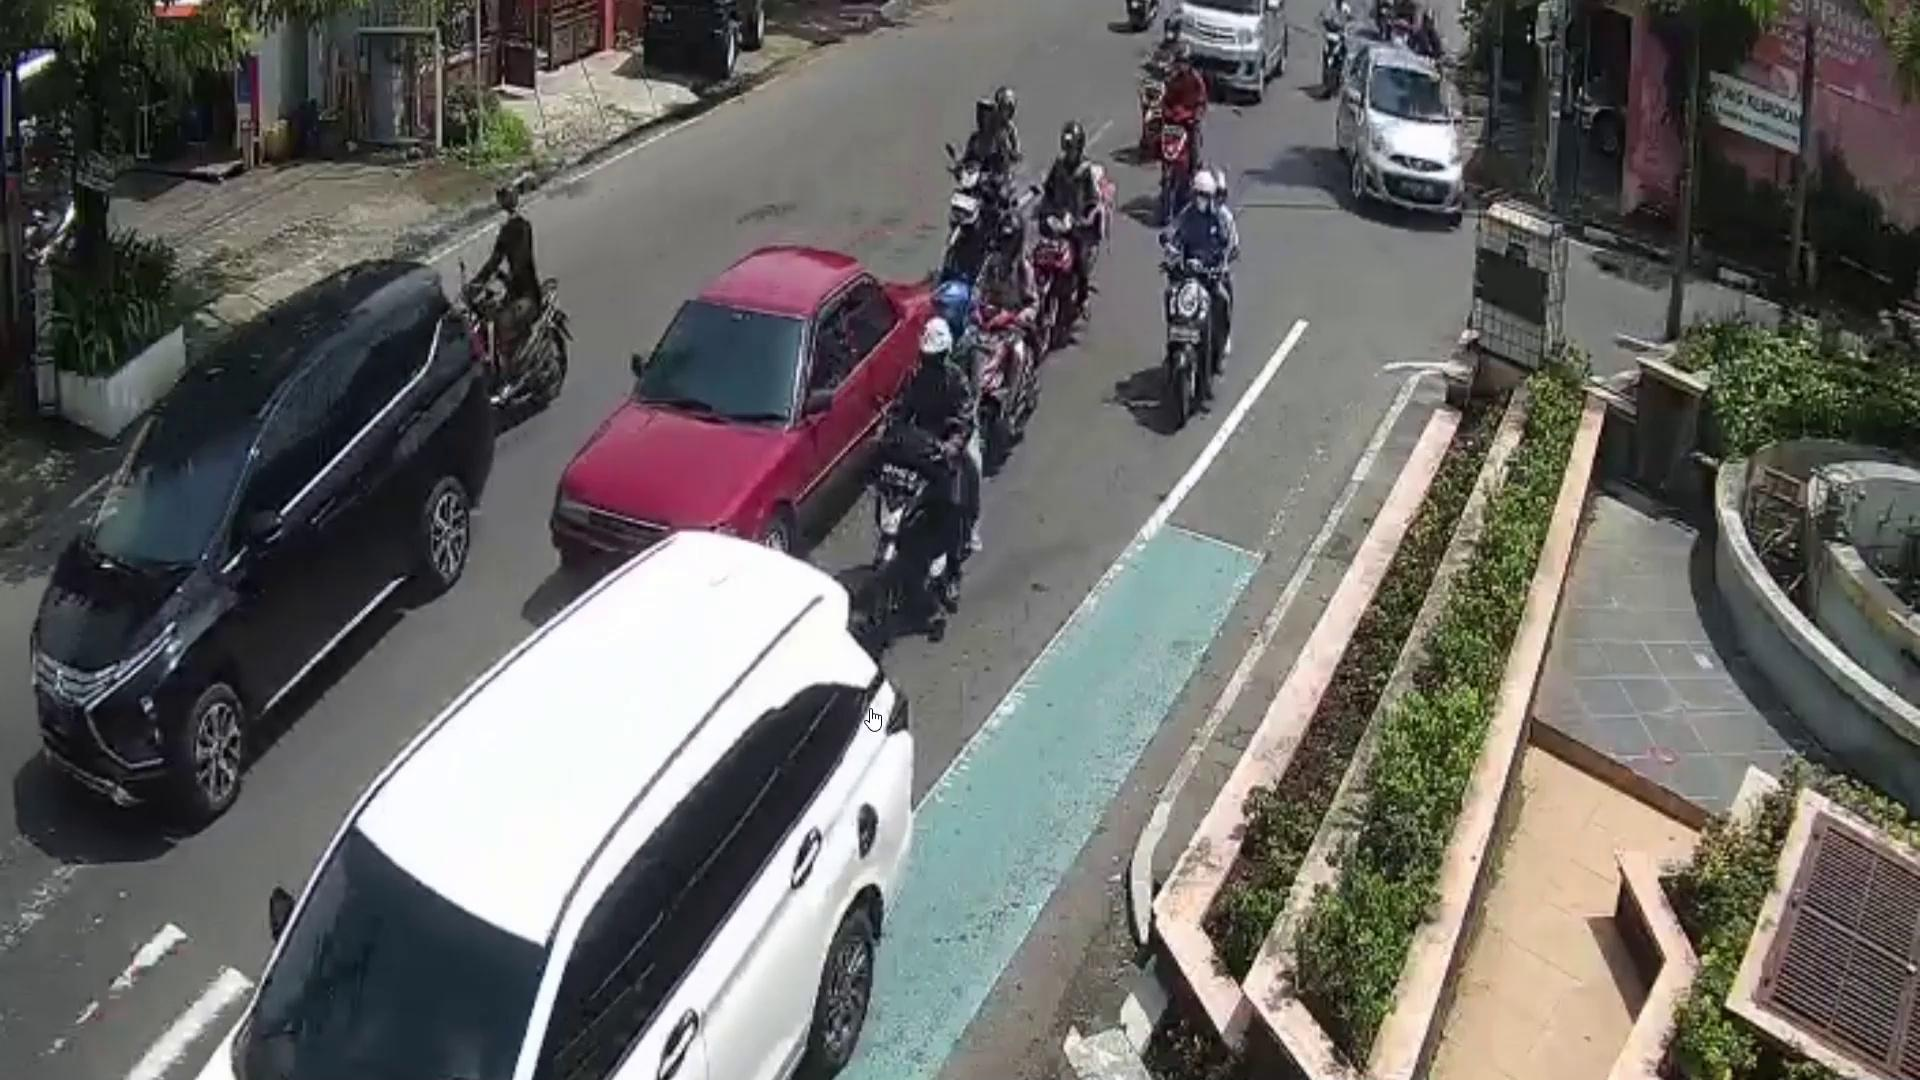car: (195, 525, 914, 1080), (29, 258, 496, 823), (549, 247, 935, 568), (1344, 44, 1465, 223), (1174, 0, 1286, 100)
motorbike: (880, 419, 984, 632), (1160, 253, 1212, 430), (1147, 94, 1200, 223), (939, 153, 986, 284)
